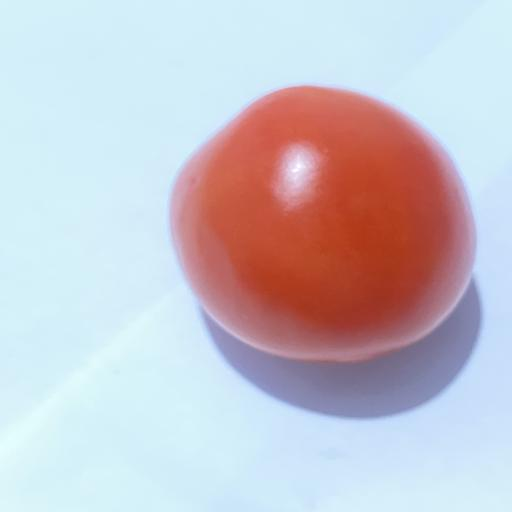ripe: (171, 86, 475, 362)
